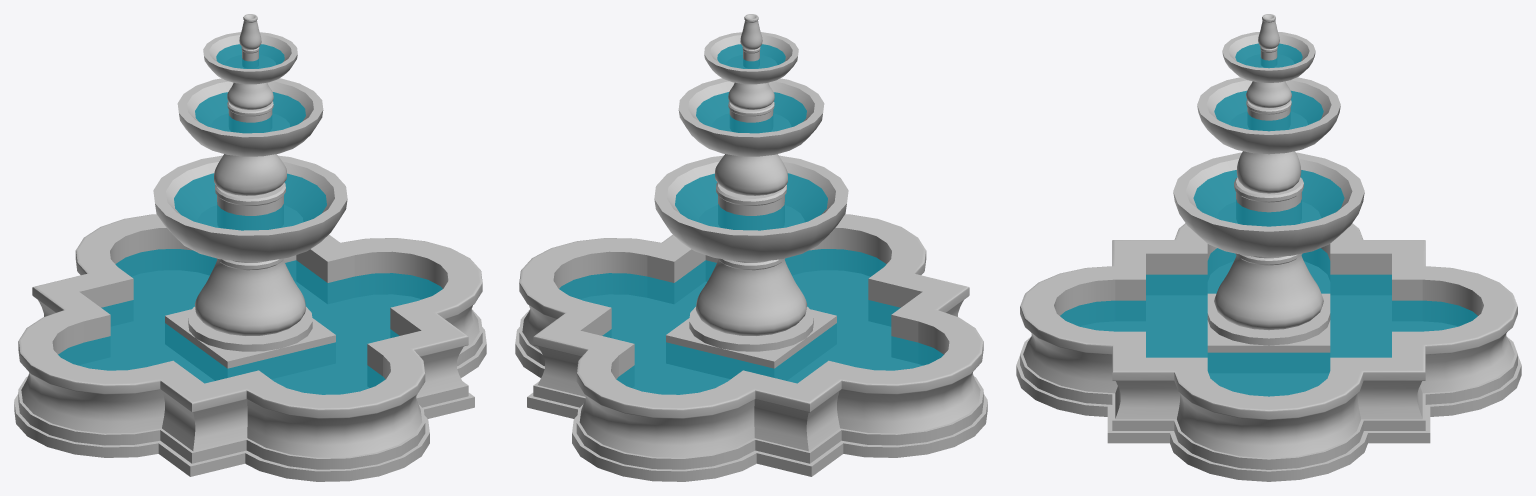
3 renders of one model, left to right at view 1: azimuth 30°, elevation 25°; view 2: azimuth 150°, elevation 25°; view 3: azimuth 270°, elevation 25°, orthographic.
Parts seen in each view (by area): view 1: Fountain, Water; view 2: Fountain, Water; view 3: Fountain, Water.
Boxes of the visible parts, x1,y1,x2,y2 form: Fountain: [14, 14, 486, 481]; Water: [58, 44, 442, 394]; Fountain: [515, 14, 987, 481]; Water: [559, 44, 943, 394]; Fountain: [1016, 14, 1521, 481]; Water: [1060, 43, 1477, 396].
Bounding box in the file's own units: 822 × 643 × 822.
